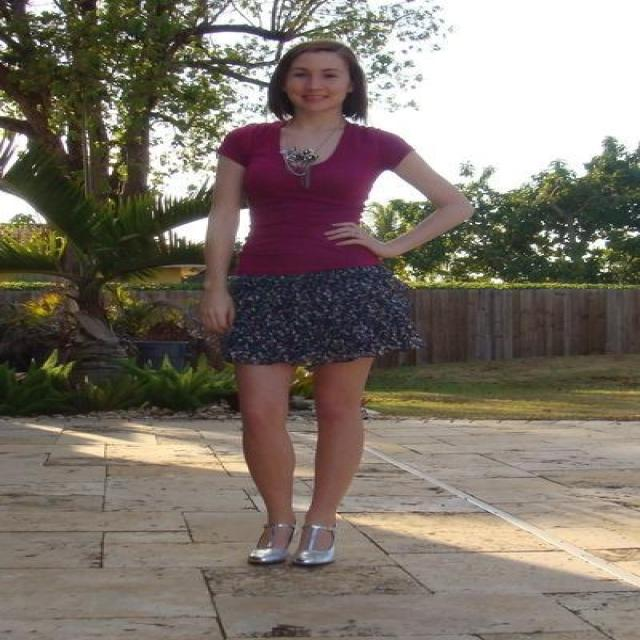dress: (228, 266, 398, 364)
shirt: (218, 122, 411, 277)
shoe: (299, 530, 341, 563)
